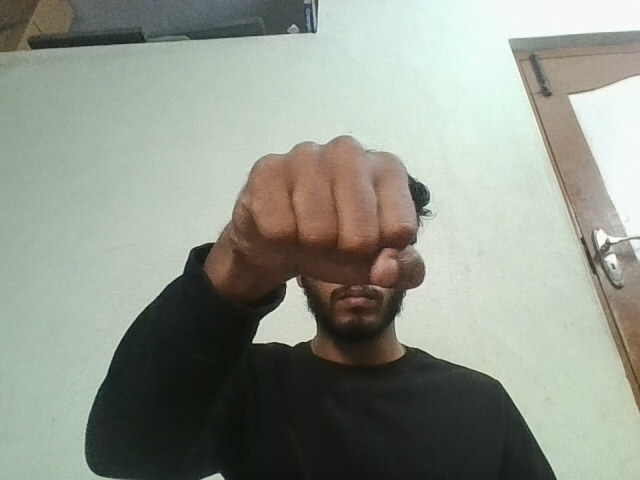yes: (226, 128, 452, 299)
